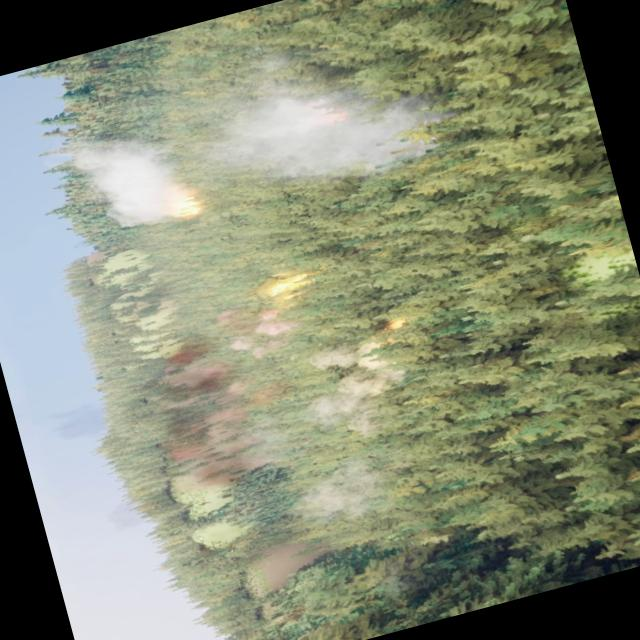fire: (258, 262, 318, 310), (354, 304, 418, 349), (156, 174, 204, 224)
smoke: (190, 19, 446, 214), (59, 116, 181, 238), (272, 446, 395, 536)
